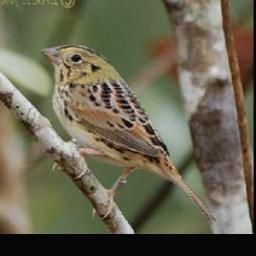Sparrow: (39, 40, 227, 226)
